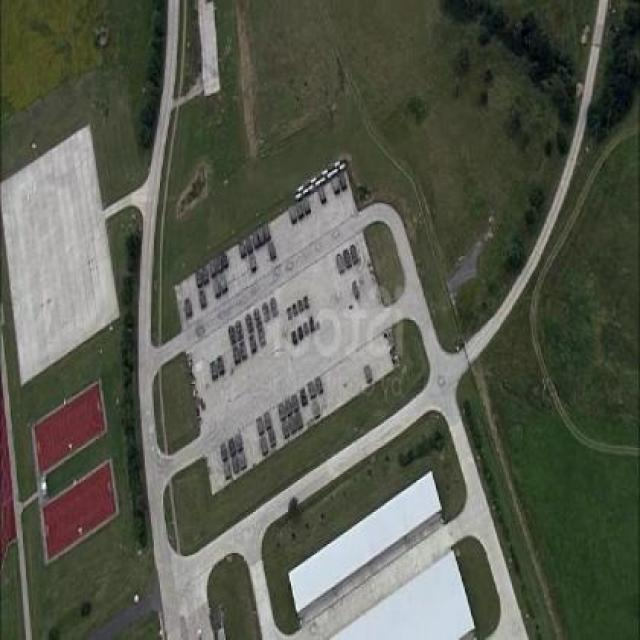tank: (294, 406, 305, 432), (269, 294, 280, 319), (211, 275, 222, 299), (255, 413, 266, 437), (280, 416, 291, 440), (248, 332, 258, 358), (290, 388, 300, 414), (277, 398, 287, 424), (306, 378, 317, 401), (259, 435, 270, 458), (310, 401, 322, 422), (335, 251, 345, 276), (228, 320, 237, 347), (288, 204, 299, 226), (183, 295, 193, 319), (209, 359, 219, 383), (238, 449, 248, 473), (284, 395, 294, 419), (244, 312, 253, 338), (234, 318, 243, 344), (238, 237, 248, 260), (218, 272, 228, 295), (220, 250, 230, 273), (363, 362, 373, 385), (343, 246, 352, 271), (253, 305, 262, 330), (227, 433, 236, 458), (352, 278, 361, 303), (195, 266, 204, 290), (330, 174, 340, 195), (248, 253, 258, 274), (350, 243, 359, 266), (314, 375, 323, 398), (234, 431, 243, 454), (267, 240, 277, 260), (198, 286, 206, 311), (262, 299, 270, 324), (268, 425, 276, 450), (208, 257, 217, 279), (216, 353, 224, 377), (300, 385, 308, 409), (232, 344, 240, 368), (240, 339, 248, 362), (220, 439, 228, 462), (223, 458, 231, 481), (262, 222, 271, 242), (257, 226, 266, 246), (244, 234, 253, 254), (258, 326, 266, 348), (202, 261, 209, 286), (289, 411, 296, 436), (264, 408, 271, 432), (231, 451, 238, 475), (318, 186, 327, 204), (285, 305, 294, 323), (339, 170, 347, 190), (303, 195, 311, 215), (296, 200, 304, 220), (252, 230, 260, 250), (297, 323, 305, 343), (296, 297, 304, 316), (291, 328, 299, 347), (216, 253, 223, 274), (291, 301, 299, 319), (309, 314, 316, 334), (303, 294, 310, 311), (304, 320, 310, 338)
